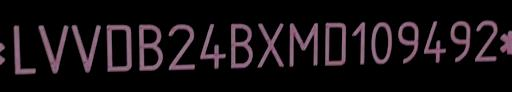letter: (162, 22, 198, 80), (36, 20, 72, 74), (285, 19, 323, 69), (222, 21, 256, 75), (254, 20, 288, 72), (69, 22, 103, 74), (132, 23, 166, 73), (103, 21, 133, 77), (321, 17, 351, 69), (10, 23, 36, 77), (472, 18, 500, 67), (196, 20, 222, 72), (448, 21, 472, 69), (396, 23, 422, 64), (348, 21, 372, 65), (422, 21, 448, 61), (370, 22, 394, 62)
